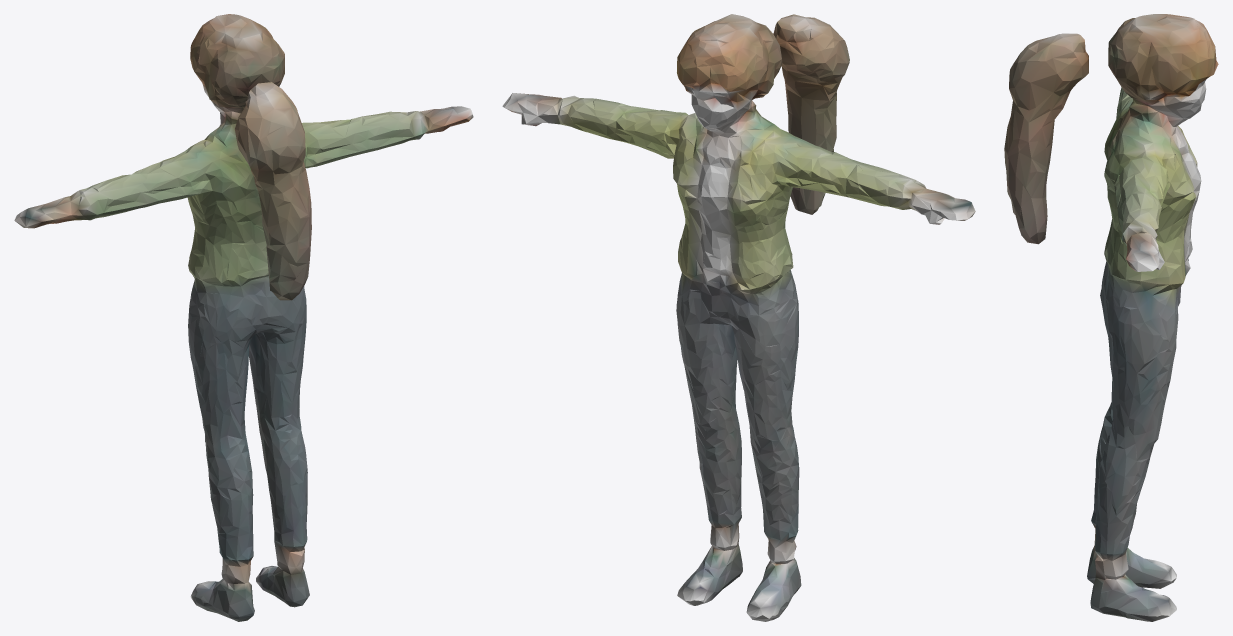
File: ped_woman.glb
3 renders of one model, left to right at view 1: azimuth 30°, elevation 25°; view 2: azimuth 150°, elevation 25°; view 3: azimuth 270°, elevation 25°, orthographic. The views are drawn at different scales.
Visible parts, largest first — view 1: world; view 2: world; view 3: world.
Boxes of the visible parts, box(x1,y1,x2,y2) form: world: box(14, 14, 473, 621); world: box(502, 14, 975, 621); world: box(1004, 14, 1218, 621).
Size of the model in its own units: 1.38 by 1.68 by 0.5579.
